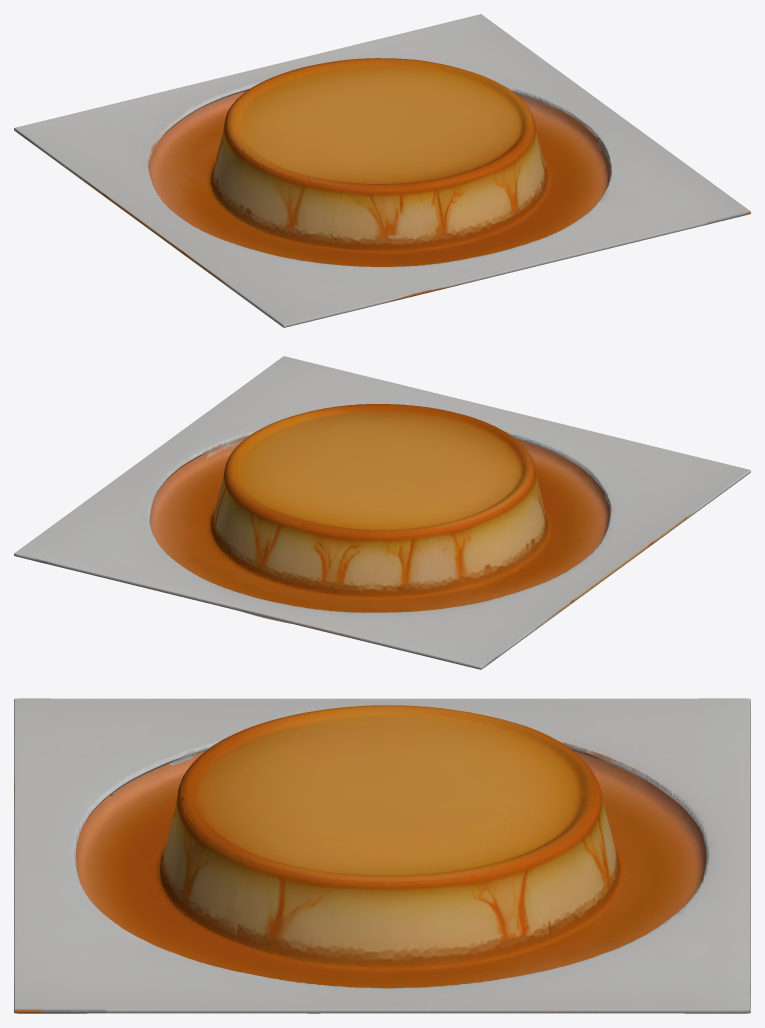
Rendered from flan.glb.
3 renders of one model, top to bottom at view 1: azimuth 30°, elevation 25°; view 2: azimuth 150°, elevation 25°; view 3: azimuth 270°, elevation 25°, orthographic. The views are drawn at different scales.
Parts seen in each view (by area): view 1: textured_mesh.obj; view 2: textured_mesh.obj; view 3: textured_mesh.obj.
Boxes of the visible parts, x1,y1,x2,y2 form: textured_mesh.obj: (14, 14, 750, 327); textured_mesh.obj: (14, 356, 750, 669); textured_mesh.obj: (14, 698, 750, 1013).
Bounding box in the file's own units: 1.99 × 0.2969 × 1.98.
1 material, 1 textured.
